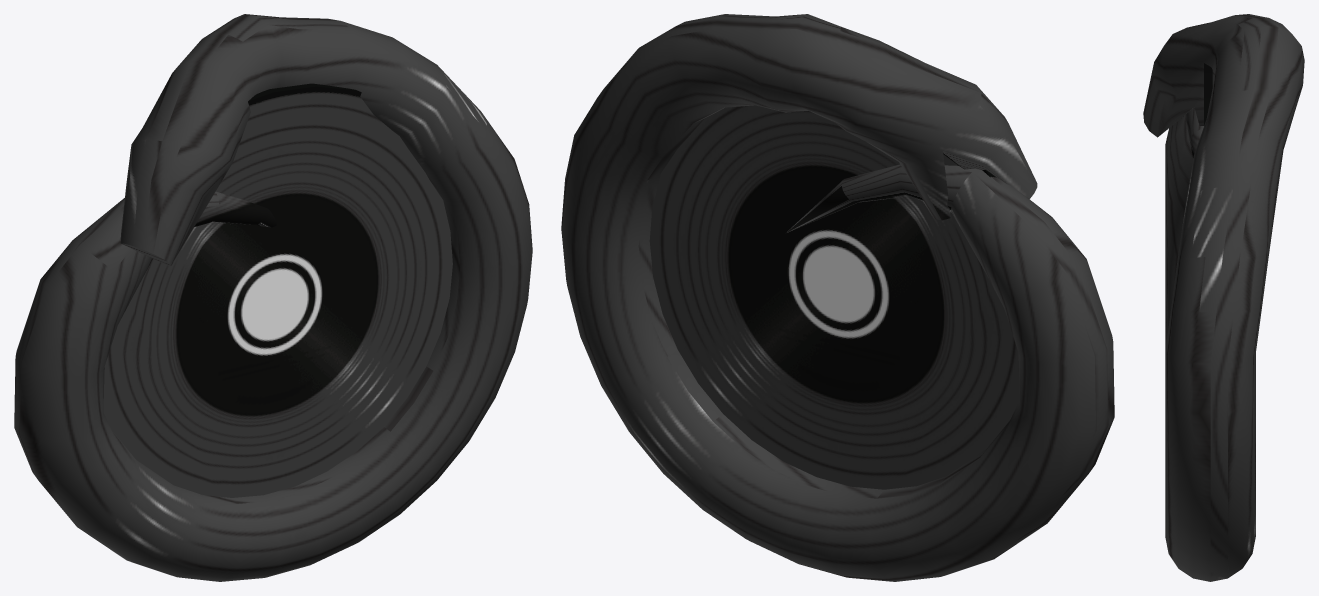
File: Vin-eel.fbx
3 renders of one model, left to right at view 1: azimuth 30°, elevation 25°; view 2: azimuth 150°, elevation 25°; view 3: azimuth 270°, elevation 25°, orthographic. The views are drawn at different scales.
Visible parts, largest first — view 1: Torus, Circle; view 2: Torus, Circle; view 3: Torus, Circle.
Part boxes in pixels (x1,y1,x2,y2): Torus: (14, 14, 532, 581); Circle: (103, 83, 452, 497); Torus: (561, 14, 1114, 581); Circle: (649, 105, 1019, 489); Torus: (1143, 14, 1304, 581); Circle: (1204, 63, 1212, 125).
Bounding box in the file's own units: 143 × 143 × 39.29.
